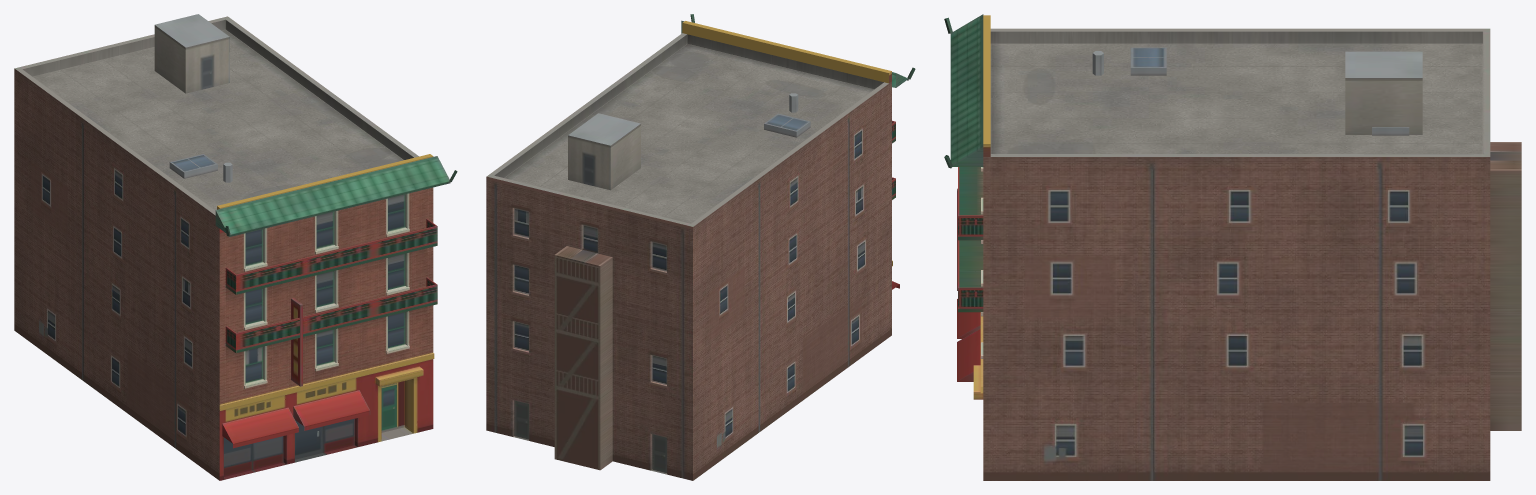
File: sf_brick_a.glb
3 renders of one model, left to right at view 1: azimuth 30°, elevation 25°; view 2: azimuth 150°, elevation 25°; view 3: azimuth 270°, elevation 25°, orthographic. The views are drawn at different scales.
Parts seen in each view (by area): view 1: sf_brick_a; view 2: sf_brick_a; view 3: sf_brick_a.
Part boxes in pixels (bbox=[...]): sf_brick_a: bbox=[14, 14, 457, 480]; sf_brick_a: bbox=[486, 14, 915, 480]; sf_brick_a: bbox=[944, 14, 1521, 480].
Size of the model in its own units: 13.72 by 16.85 by 23.92.
Materials: 1 (1 with a texture image).
